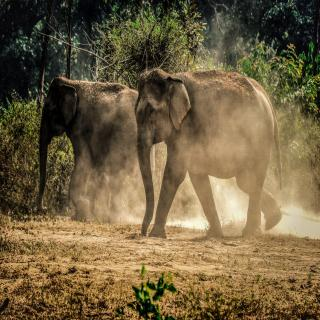Elephant: (134, 68, 285, 240), (36, 72, 156, 226)
